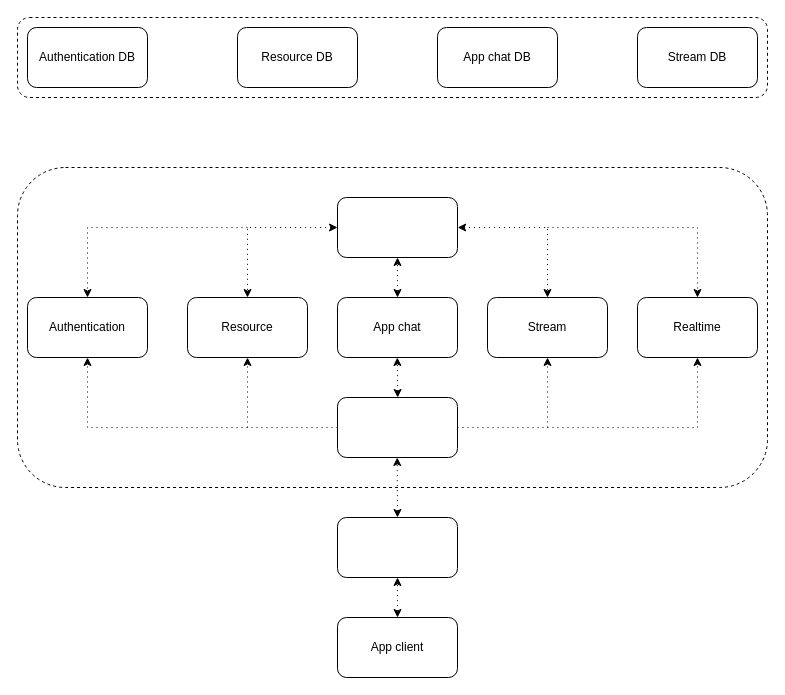
This 785x695 diagram has some shape labels left out. The shapes that lost their labels are listed below. From the top down, each one's box as (x1, y1, x2, y2) in pixels, then its label:
(336, 196, 458, 258): RabbitMQ
(336, 396, 458, 458): Gateway
(336, 516, 458, 578): Cloudflare
